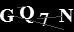7: (38, 12, 49, 27)
G: (1, 8, 13, 23)
N: (57, 8, 74, 23)
Q: (19, 6, 34, 23)
